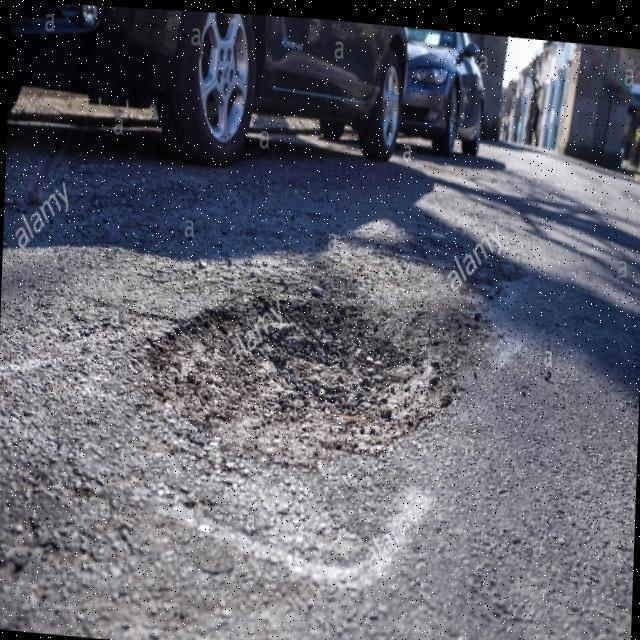Pothole: (131, 281, 477, 473)
